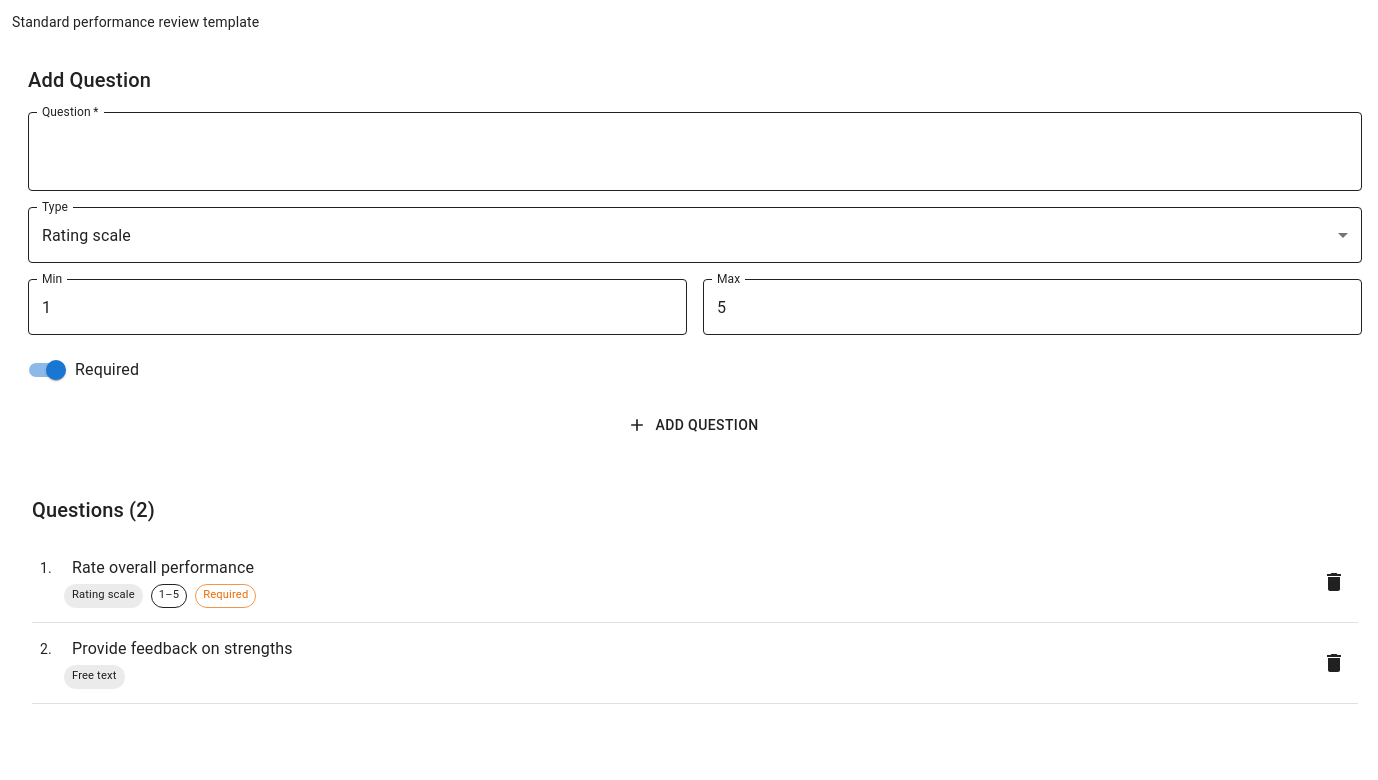
ReviewTemplateDetailClient › hides scale fields when question type is changed to TEXT
The image size is (1378, 780).
expect the number field labelled "Min" is shown: met, box 28,279 -> 687,335
Open the type Select and choose Free text (TEXT).
Press the mouse on the dropdown: (86, 235) 42,226 -> 131,244
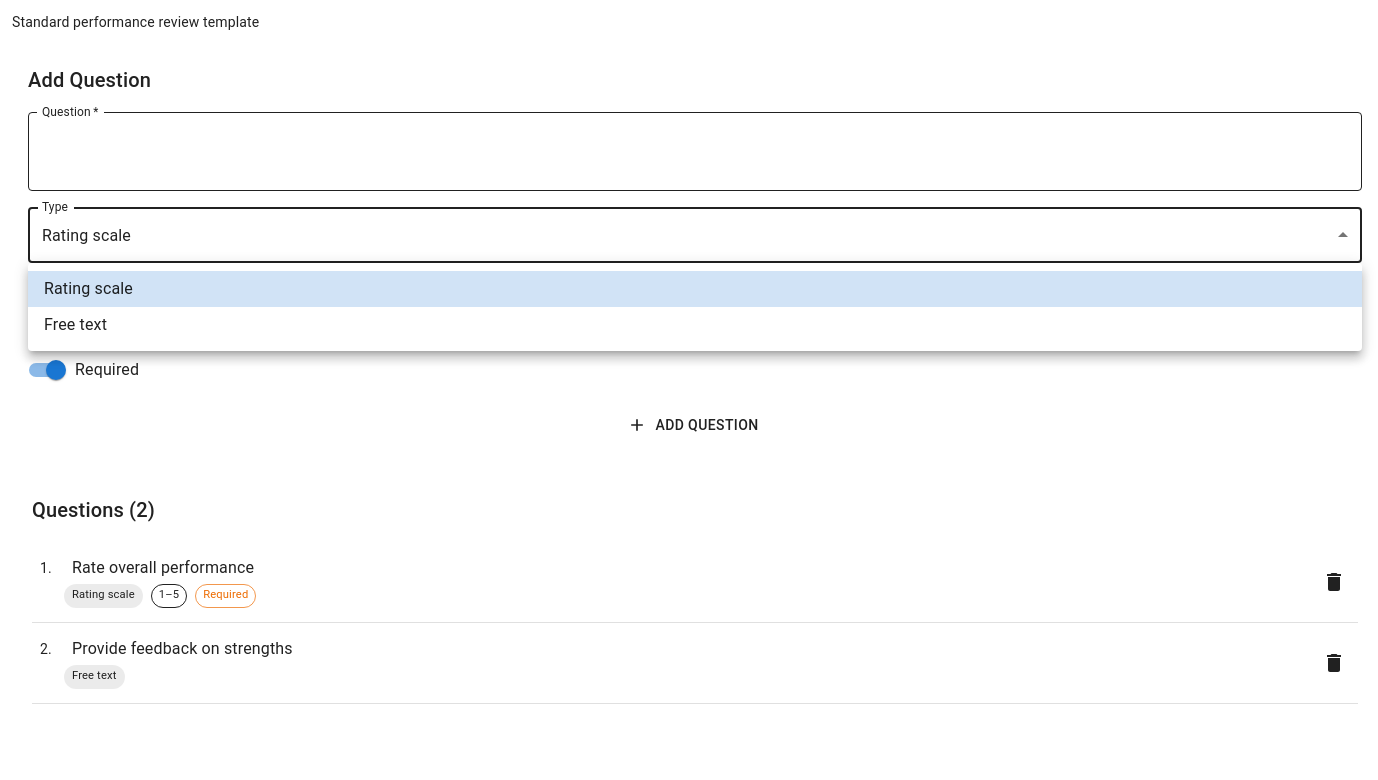
Click the option "Free text": (76, 324) 44,315 -> 107,334
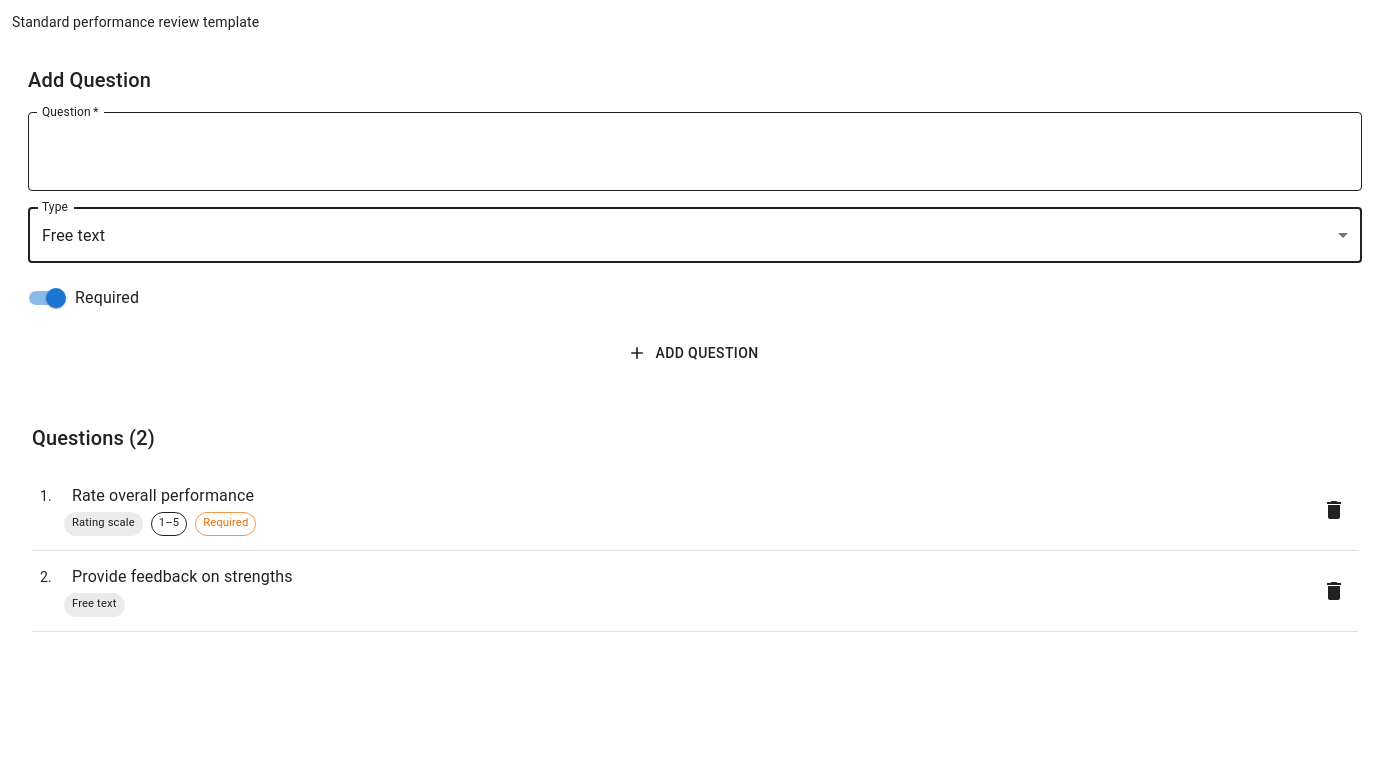
expect the label "Min" is gone: met
expect the label "Max" is gone: met
